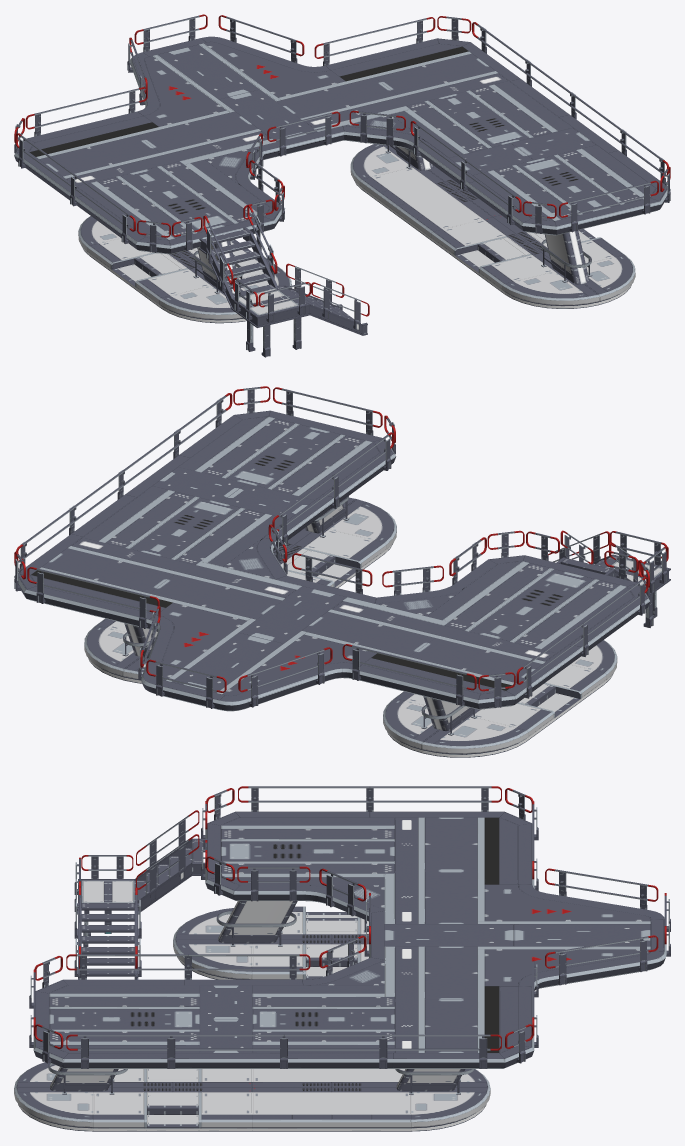
File: Platerform_Metal_02.FBX
3 views of the same model, one above another, from view 1: azimuth 30°, elevation 25°; view 2: azimuth 150°, elevation 25°; view 3: azimuth 270°, elevation 25° (orthographic). The views are drawn at different scales.
Parts seen in each view (by area): view 1: Platerform_Metal_02, Platerform_Base_02, Platerform_Fence_05, Platerform_Stairs_01, Platerform_Base_01, Platerform_Support_01, Platerform_Support_03; view 2: Platerform_Metal_02, Platerform_Fence_05, Platerform_Base_01, Platerform_Base_02, Platerform_Stairs_01, Platerform_Support_04; view 3: Platerform_Metal_02, Platerform_Base_02, Platerform_Fence_05, Platerform_Stairs_01, Platerform_Base_01, Platerform_Support_03, Platerform_Support_02, Platerform_Support_01, Platerform_Fence_03, Platerform_Fence_01, Platerform_Fence_02.
Boxes of the visible parts, left/top/right/bottom form: Platerform_Metal_02: left=14, top=36, right=670, bottom=254; Platerform_Base_02: left=350, top=144, right=635, bottom=308; Platerform_Fence_05: left=14, top=14, right=670, bottom=252; Platerform_Stairs_01: left=199, top=205, right=369, bottom=357; Platerform_Base_01: left=78, top=216, right=291, bottom=323; Platerform_Support_01: left=544, top=230, right=589, bottom=284; Platerform_Support_03: left=197, top=240, right=241, bottom=293; Platerform_Metal_02: left=14, top=410, right=650, bottom=711; Platerform_Fence_05: left=14, top=386, right=649, bottom=708; Platerform_Base_01: left=383, top=640, right=617, bottom=757; Platerform_Base_02: left=84, top=497, right=396, bottom=683; Platerform_Stairs_01: left=548, top=530, right=670, bottom=627; Platerform_Support_04: left=423, top=696, right=473, bottom=730; Platerform_Metal_02: left=33, top=811, right=666, bottom=1068; Platerform_Base_02: left=14, top=1062, right=490, bottom=1131; Platerform_Fence_05: left=29, top=786, right=670, bottom=1068; Platerform_Stairs_01: left=74, top=810, right=207, bottom=979; Platerform_Base_01: left=173, top=906, right=368, bottom=979; Platerform_Support_03: left=218, top=901, right=297, bottom=943; Platerform_Support_02: left=396, top=1069, right=465, bottom=1091; Platerform_Support_01: left=50, top=1067, right=118, bottom=1091; Platerform_Fence_03: left=216, top=910, right=296, bottom=946; Platerform_Fence_01: left=48, top=1063, right=127, bottom=1094; Platerform_Fence_02: left=395, top=1069, right=474, bottom=1094.
Bounding box in the file's own units: 22.56 × 4.94 × 24.81.
5 materials, 5 textured.
